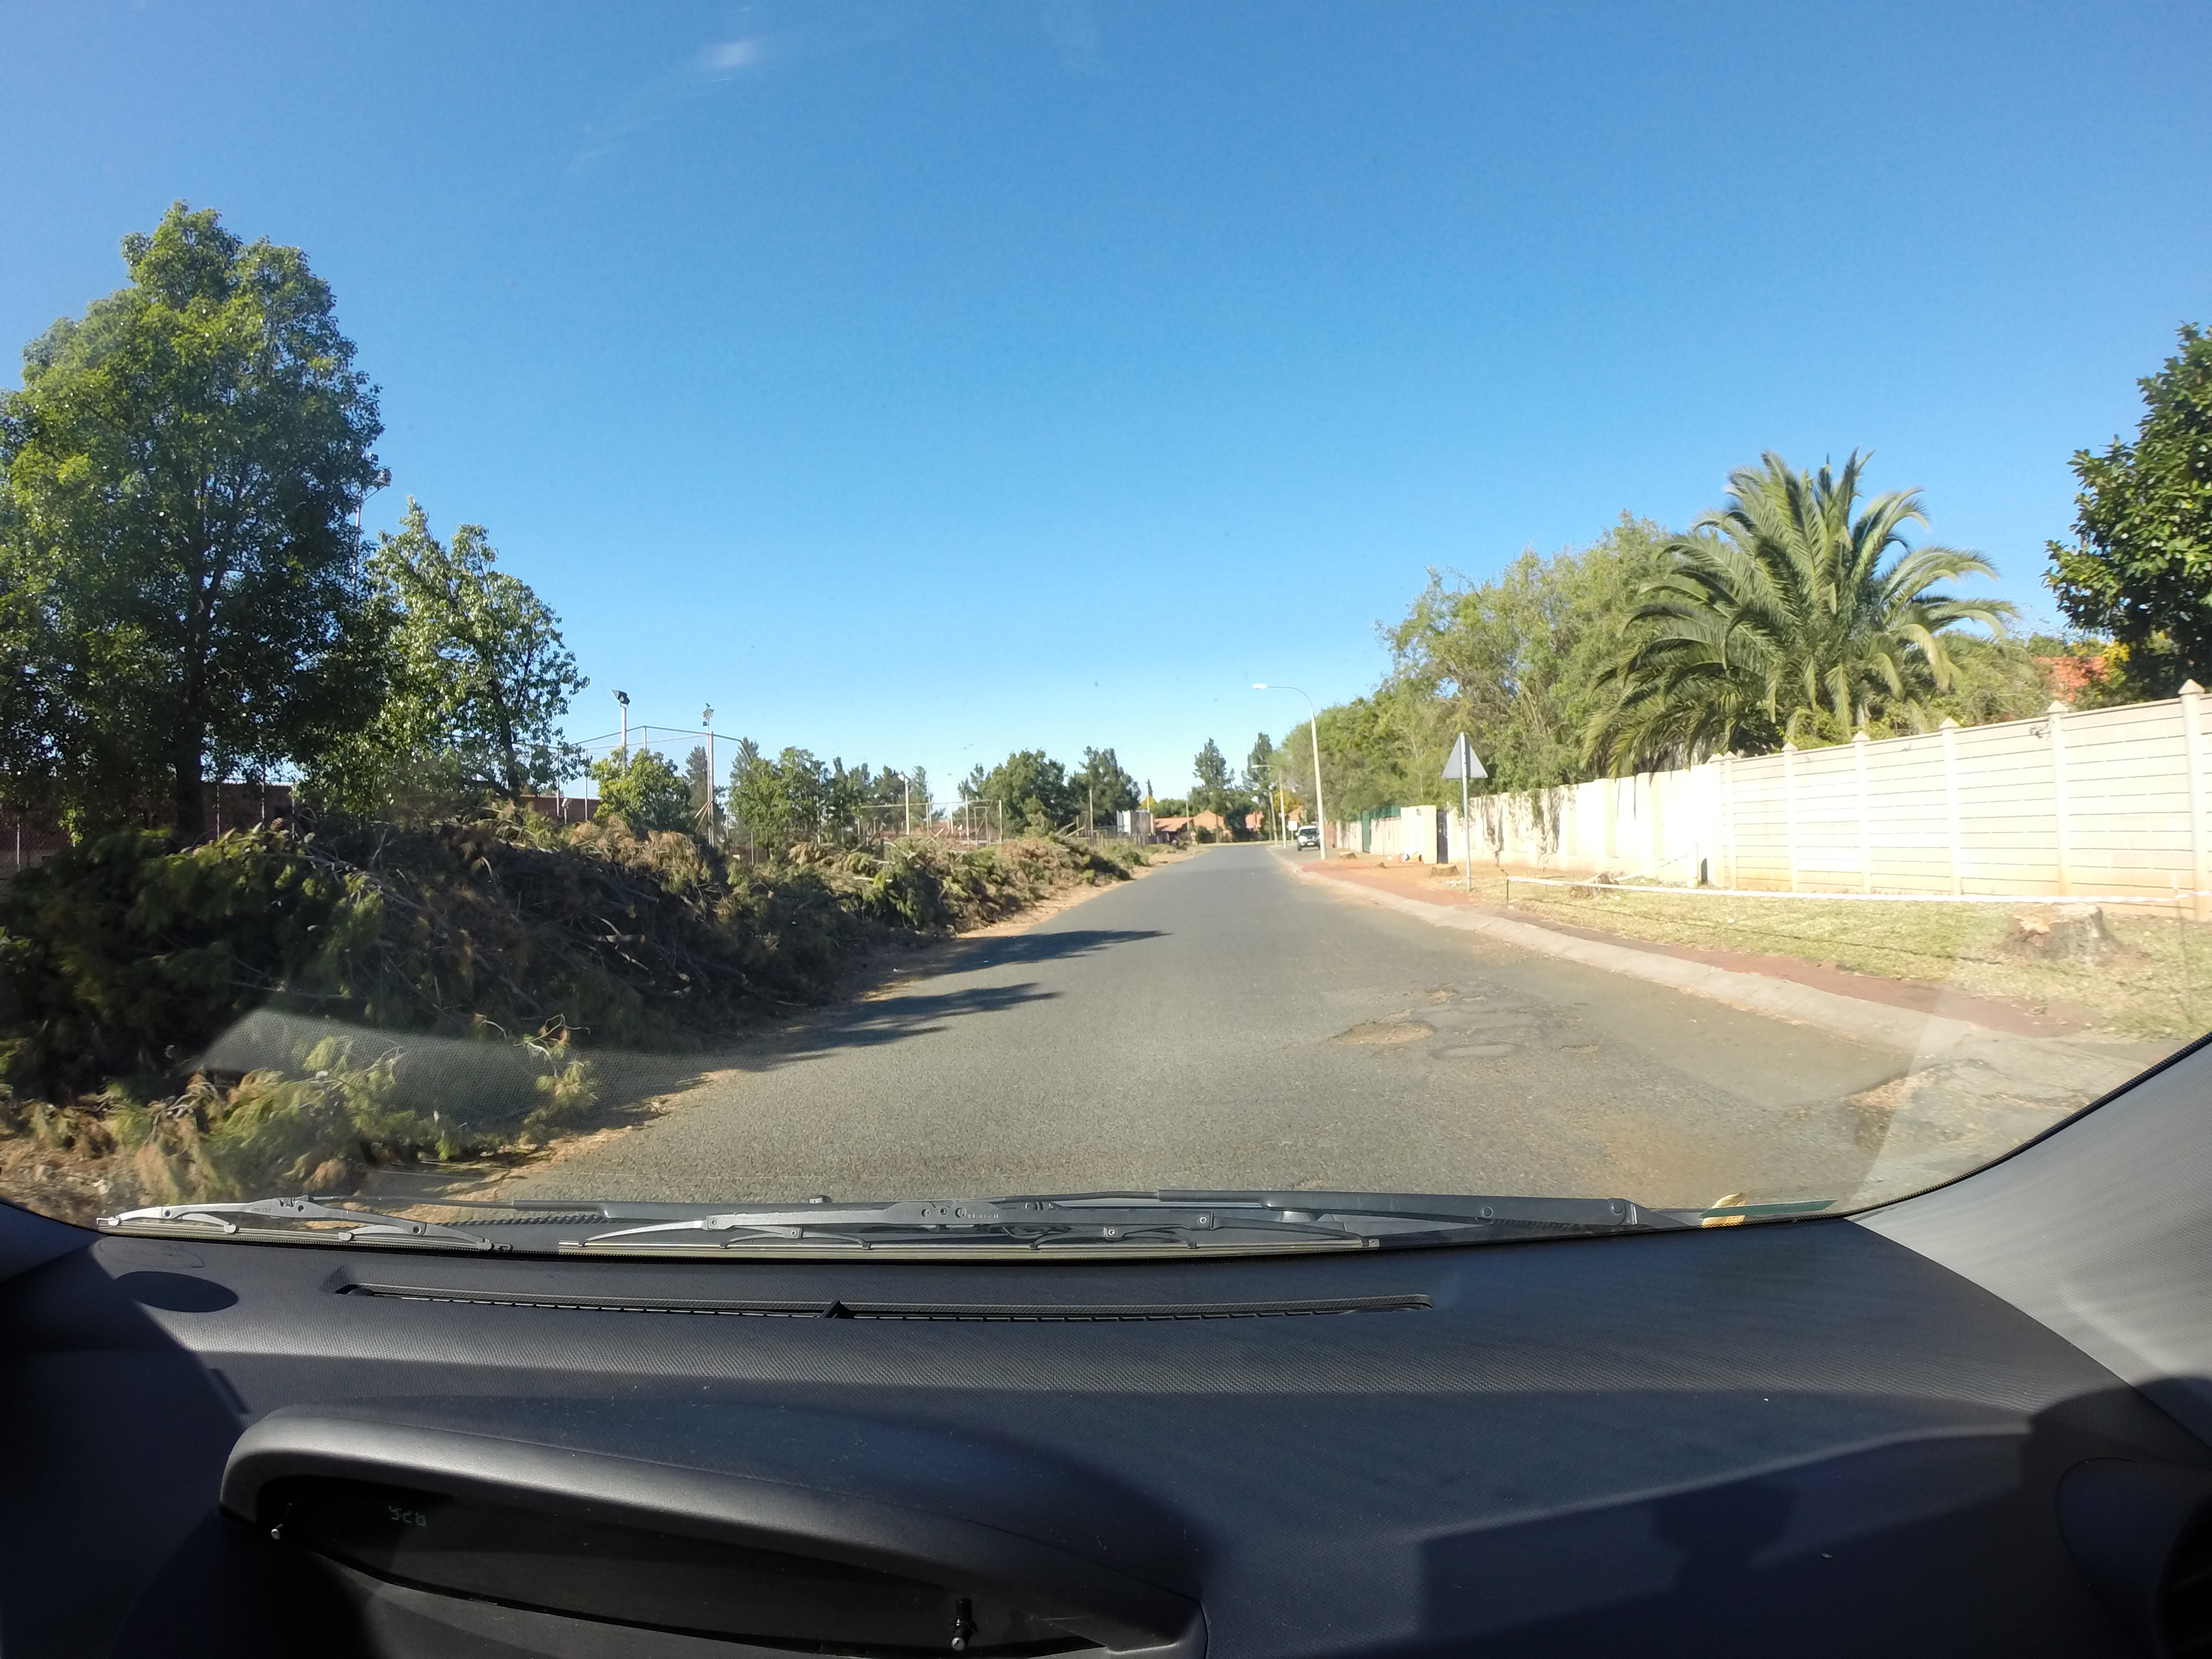pothole: (1327, 1000, 1456, 1054)
